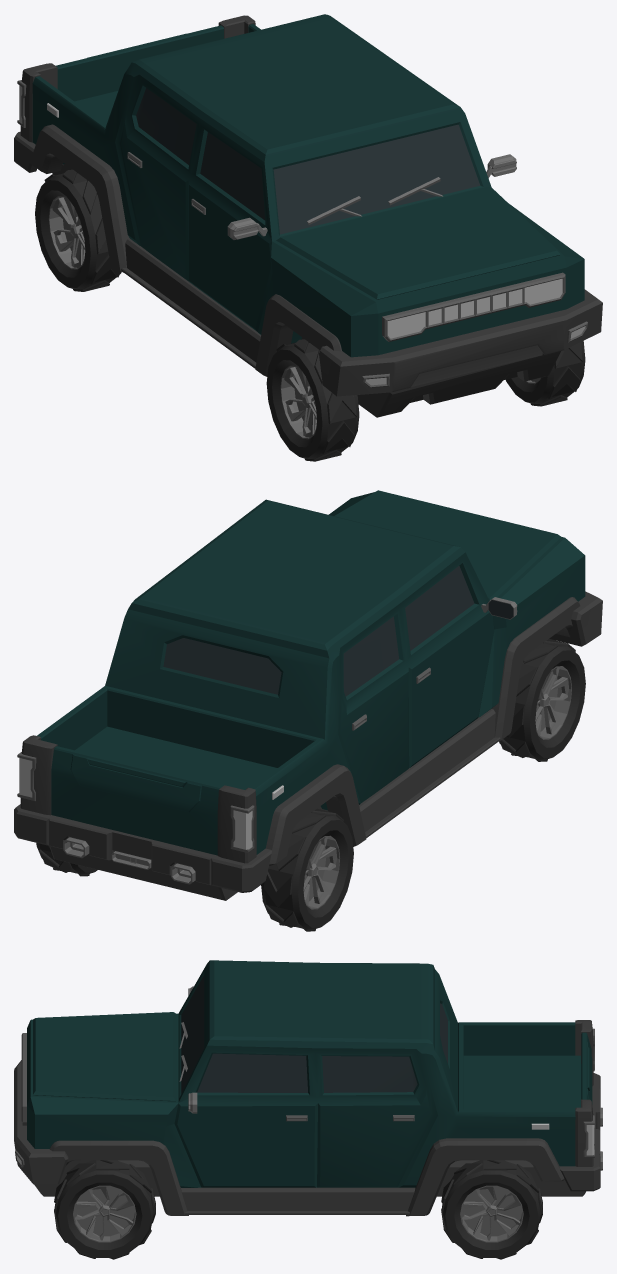
Rendered from car_04.glb.
The picture shows the model from 3 angles, top to bottom: view 1: azimuth 30°, elevation 25°; view 2: azimuth 150°, elevation 25°; view 3: azimuth 270°, elevation 25°; orthographic projection. The views are drawn at different scales.
Visible parts, largest first — view 1: car_04; view 2: car_04; view 3: car_04.
Part boxes in pixels (box(x1,y1,x2,y2)): car_04: box(14, 14, 602, 461); car_04: box(14, 490, 602, 931); car_04: box(14, 960, 602, 1259).
Bounding box in the file's own units: 2.38 × 2 × 5.09.
Materials: 1 (1 with a texture image).
